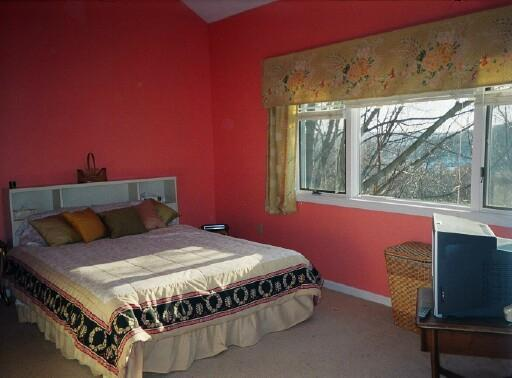Cama: (9, 178, 318, 371)
Ventana: (271, 57, 511, 219)
